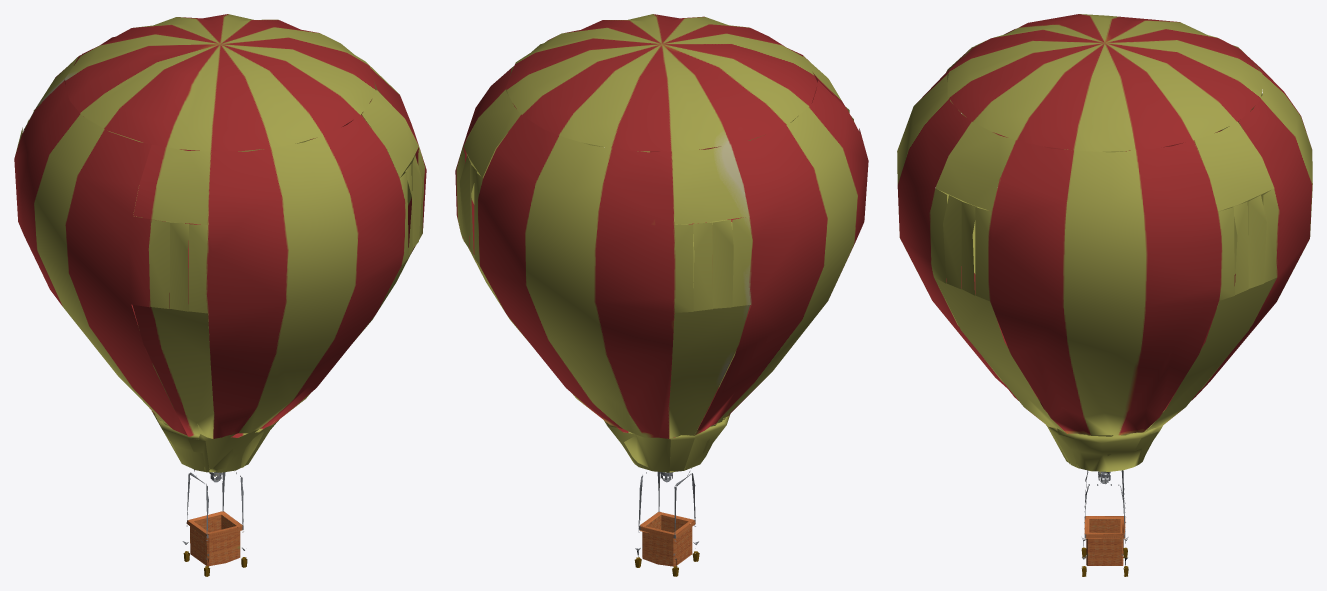
Rendered from HotAirBallon.fbx.
3 renders of one model, left to right at view 1: azimuth 30°, elevation 25°; view 2: azimuth 150°, elevation 25°; view 3: azimuth 270°, elevation 25°, orthographic.
Visible parts, largest first — view 1: Object_2; view 2: Object_2; view 3: Object_2.
Part boxes in pixels (left/top/right/bottom): Object_2: left=14, top=14, right=426, bottom=576; Object_2: left=455, top=14, right=868, bottom=576; Object_2: left=897, top=14, right=1312, bottom=576.
Bounding box in the file's own units: 13450 × 18945 × 13560.
